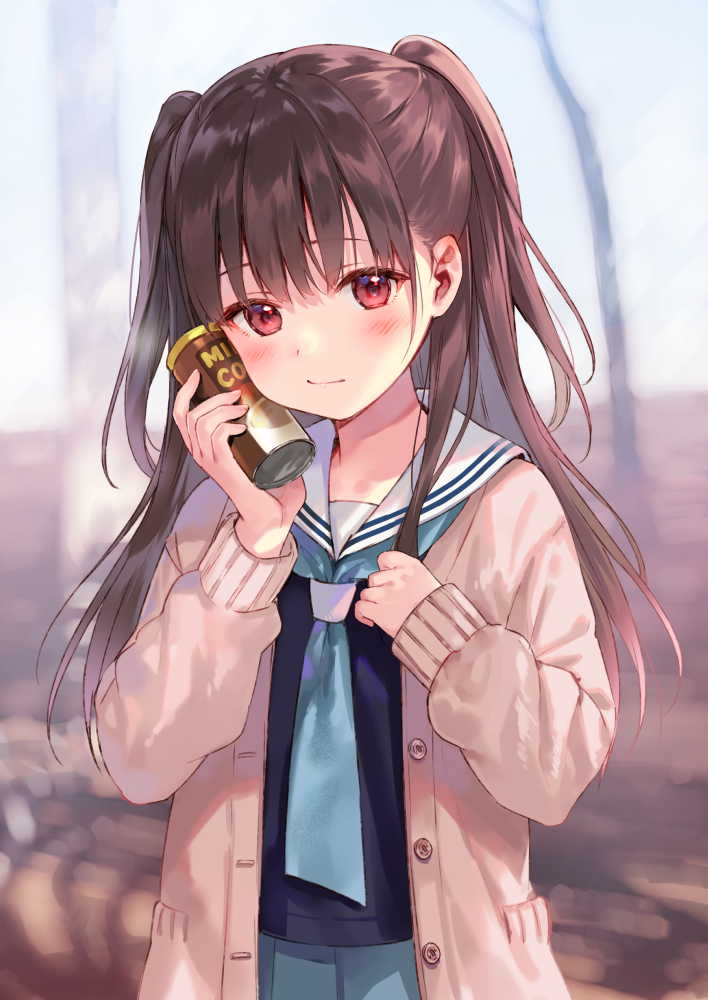纸片人正脸: (132, 37, 521, 431)
